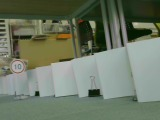speed_10: (8, 59, 28, 75)
